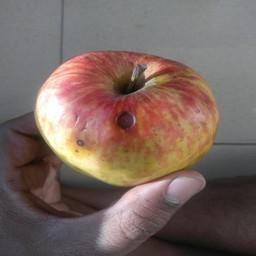Bad_apple: (33, 51, 219, 180)
